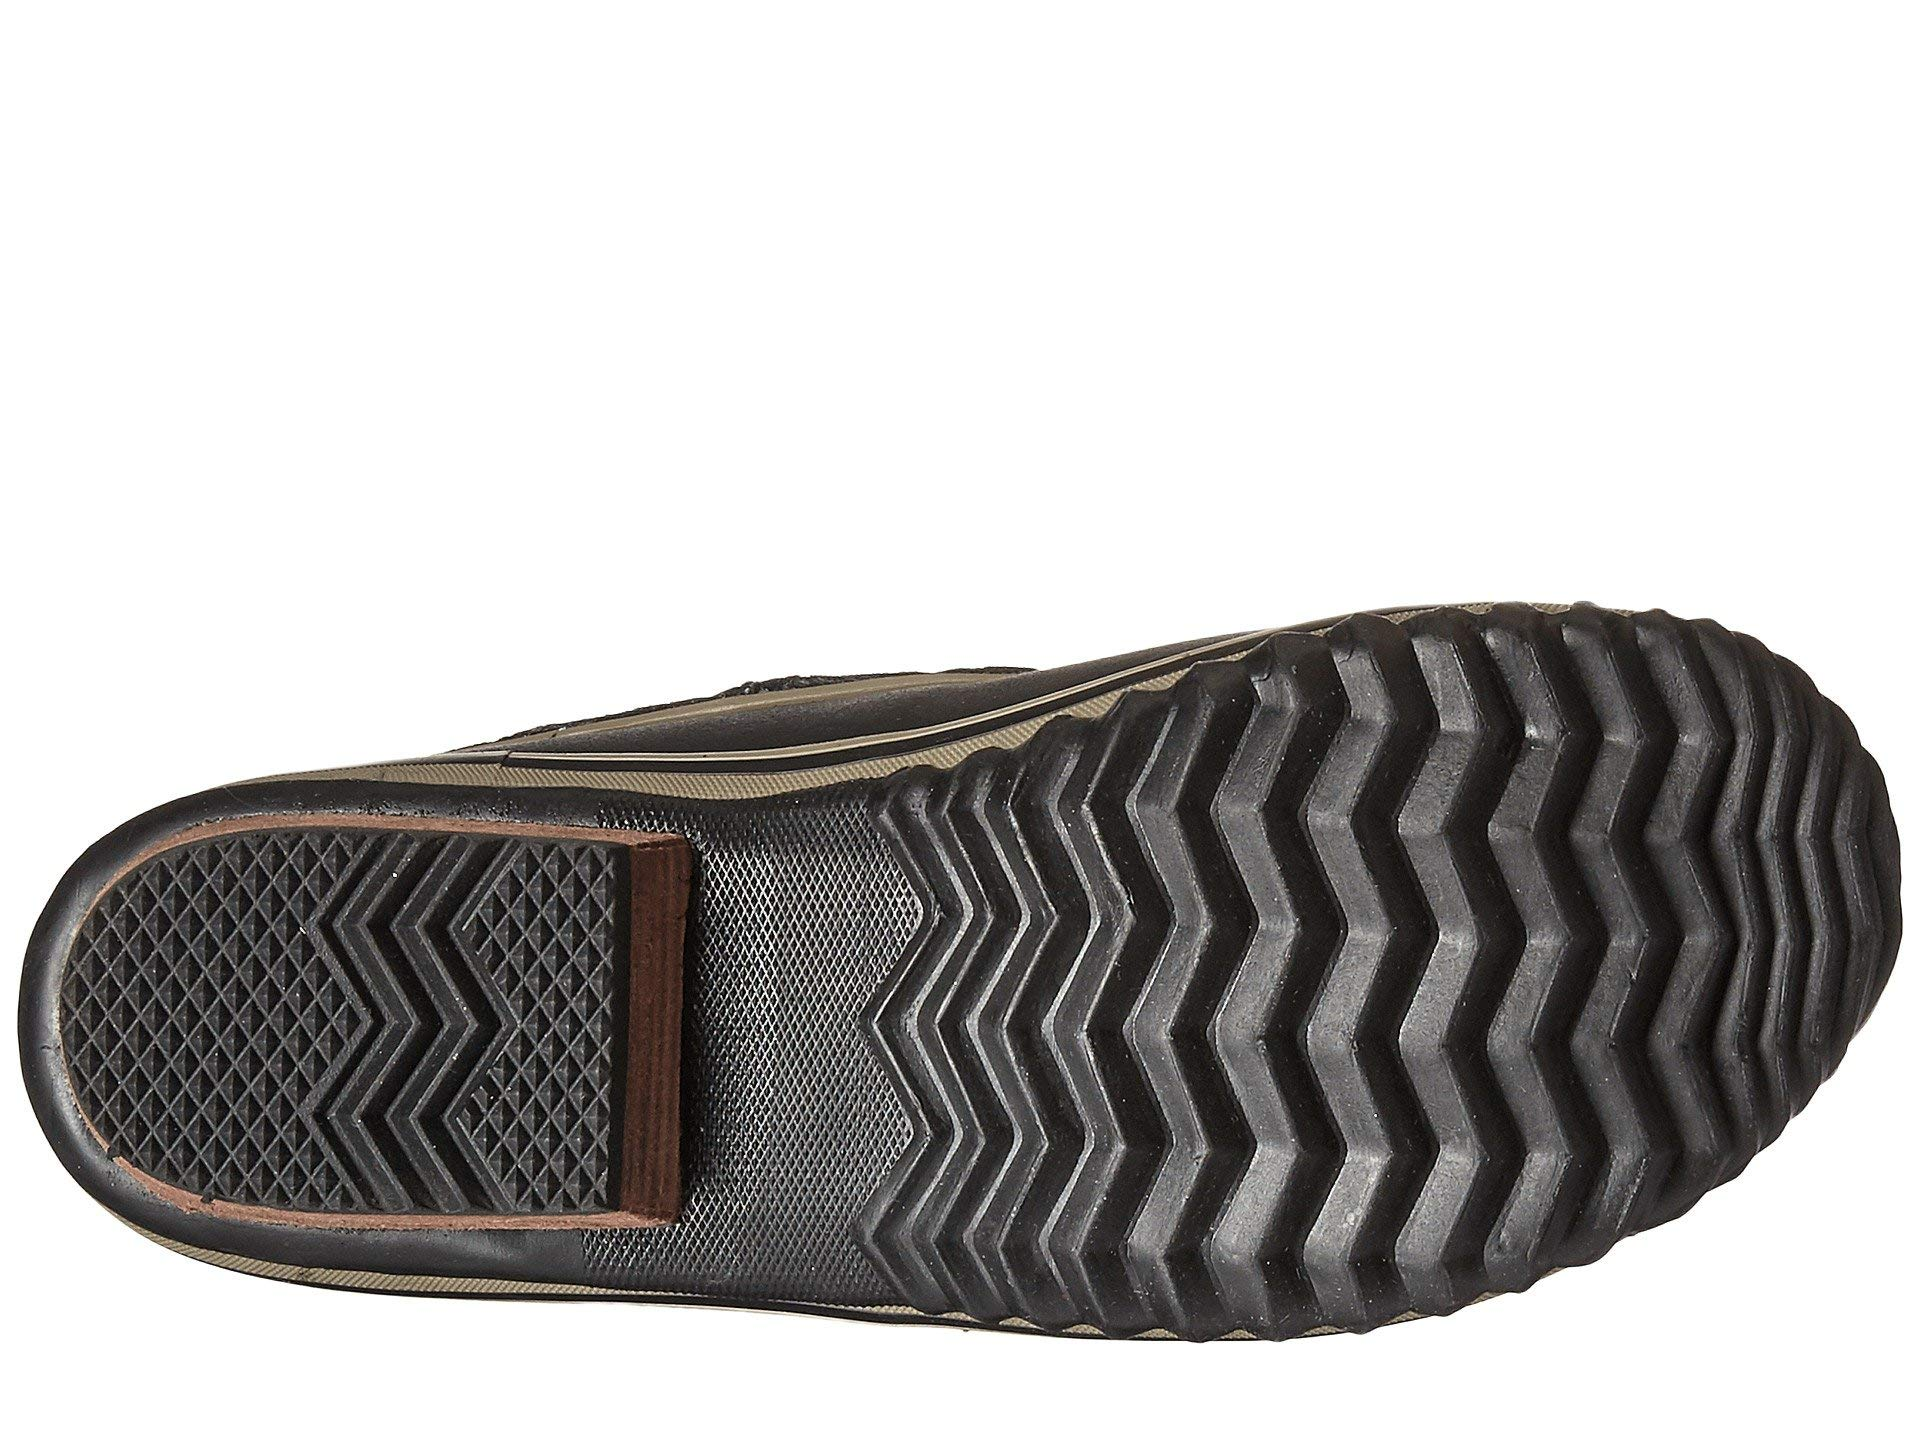chevron: (1150, 752, 1627, 1150), (162, 868, 490, 1162)
quad: (162, 868, 490, 1162)
